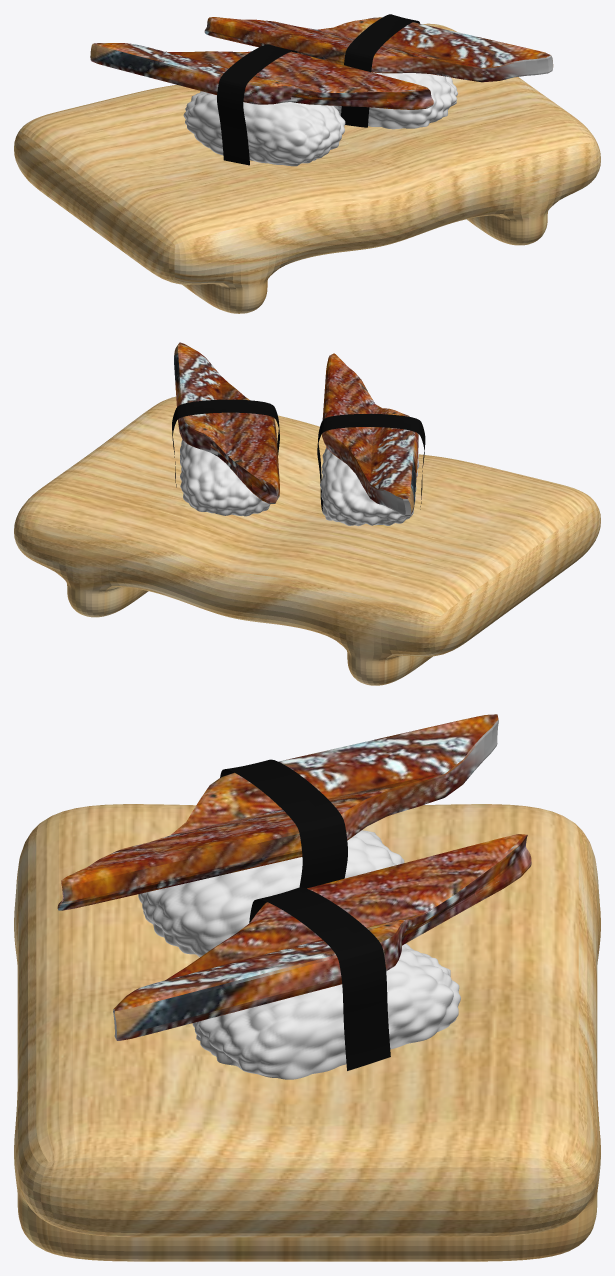
File: Unagi_Sushi.fbx
3 renders of one model, top to bottom at view 1: azimuth 30°, elevation 25°; view 2: azimuth 150°, elevation 25°; view 3: azimuth 270°, elevation 25°, orthographic. The views are drawn at different scales.
Parts seen in each view (by area): view 1: Cube.001, Cube.006, Cube.007, Plane.025, Plane.026, Plane.008, Plane.010; view 2: Cube.001, Cube.007, Cube.006, Plane.008, Plane.025, Plane.026, Plane.010; view 3: Cube.001, Cube.006, Cube.007, Plane.008, Plane.025, Plane.010, Plane.026.
Part boxes in pixels (x1,y1,x2,y2): Cube.001: [14, 23, 600, 313]; Cube.006: [90, 43, 433, 109]; Cube.007: [204, 17, 553, 82]; Plane.025: [183, 91, 345, 166]; Plane.026: [217, 44, 297, 165]; Plane.008: [334, 72, 457, 129]; Plane.010: [341, 14, 419, 127]; Cube.001: [14, 396, 600, 685]; Cube.007: [174, 342, 279, 504]; Cube.006: [322, 353, 418, 515]; Plane.008: [180, 440, 269, 516]; Plane.025: [320, 447, 419, 526]; Plane.026: [317, 413, 425, 510]; Plane.010: [172, 399, 279, 487]; Cube.001: [14, 804, 600, 1261]; Cube.006: [57, 714, 498, 910]; Cube.007: [113, 834, 531, 1040]; Plane.008: [192, 943, 460, 1079]; Plane.025: [138, 830, 404, 957]; Plane.010: [249, 887, 390, 1070]; Plane.026: [220, 759, 347, 888].
Bounding box in the file's own units: 278 × 111 × 191.
3 materials, 2 textured.
